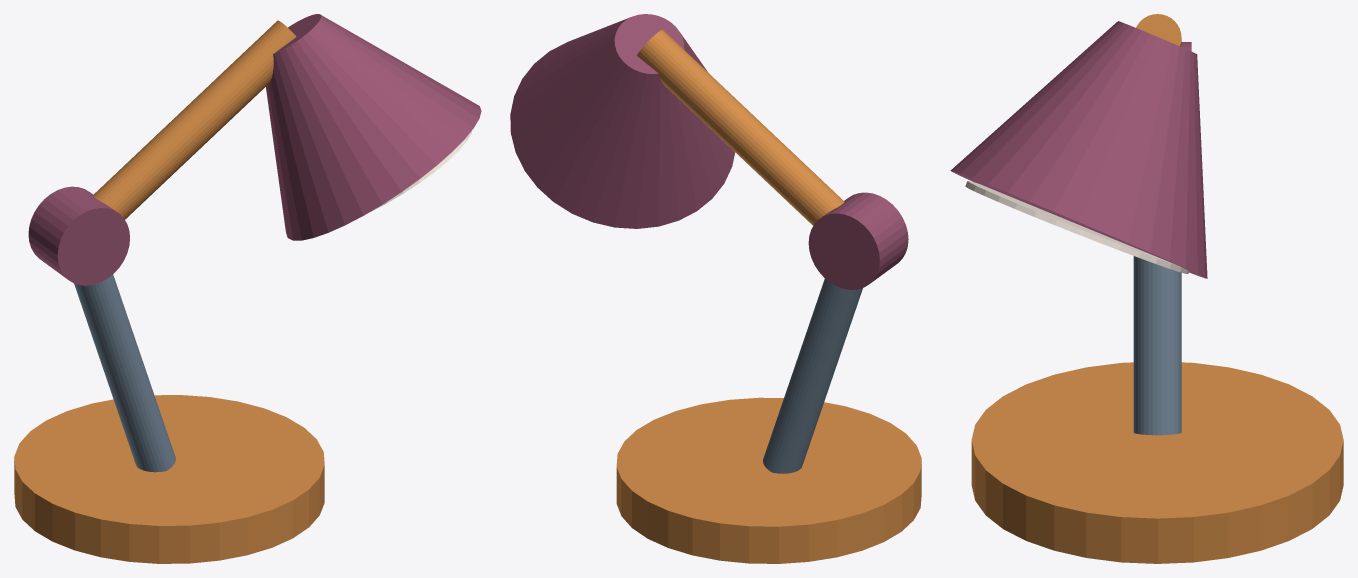
Rendered from lamp.glb.
3 views of the same model, side by side, from view 1: azimuth 30°, elevation 25°; view 2: azimuth 150°, elevation 25°; view 3: azimuth 270°, elevation 25° (orthographic). The views are drawn at different scales.
Parts seen in each view (by area): view 1: base, shade, upper arm, lower arm, joint; view 2: base, shade, upper arm, lower arm, joint; view 3: base, shade, lower arm, diffuser, upper arm.
Boxes of the visible parts, x1,y1,x2,y2 form: base: (14, 395, 324, 563); shade: (266, 14, 481, 240); upper arm: (93, 20, 296, 219); lower arm: (74, 274, 175, 472); joint: (28, 186, 129, 285); base: (616, 397, 921, 563); shade: (510, 14, 735, 228); upper arm: (637, 29, 844, 225); lower arm: (763, 278, 862, 473); joint: (808, 192, 908, 289); base: (971, 362, 1343, 563); shade: (950, 21, 1207, 278); lower arm: (1133, 256, 1181, 435); diffuser: (965, 181, 1189, 273); upper arm: (1136, 14, 1181, 46).
Bounding box in the file's own units: 1.58 × 1.67 × 1.1.
